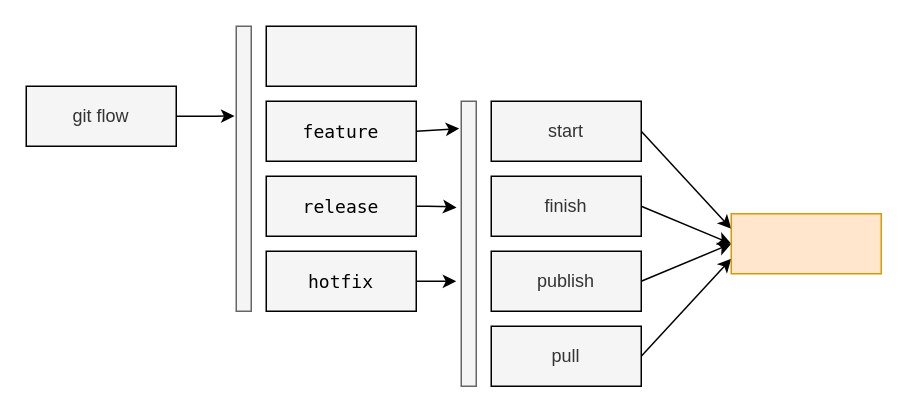
Image size: 908x413. Some labels were removed from this diagram. The shapes that lost their labels are listed below. From the top down, each one's centre as x and y in pixels, then its label:
At pixel 340 55: "init".
At pixel 805 243: "name".
